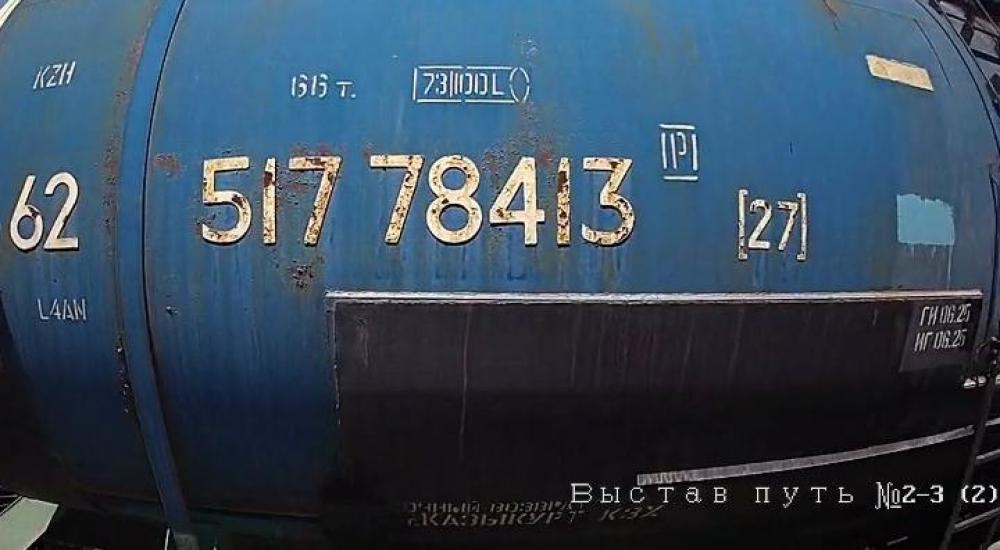Wagon-number: (195, 151, 644, 251)
